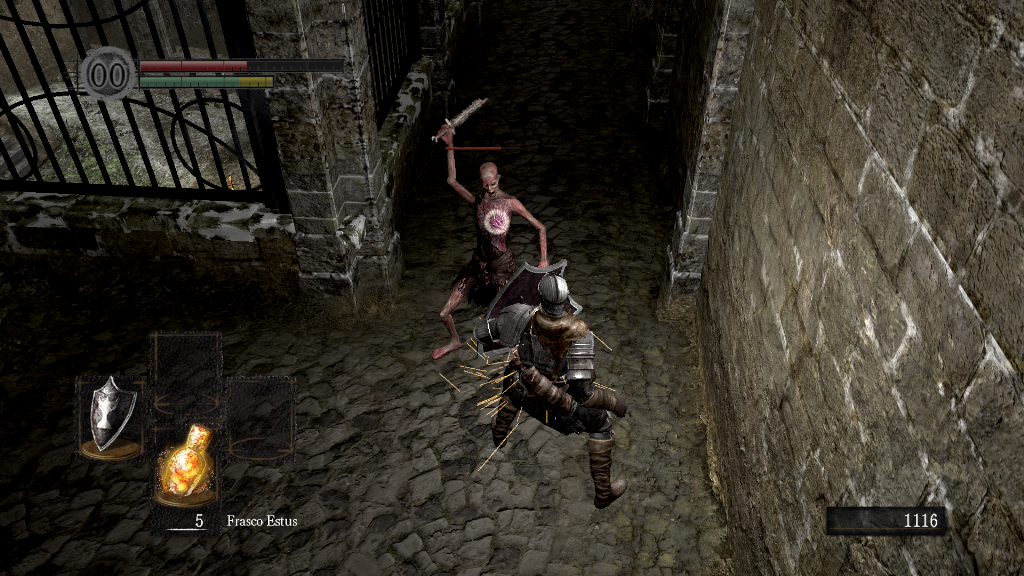health: (138, 58, 343, 71)
hollow: (431, 129, 552, 365)
humanity: (80, 45, 136, 102)
player: (477, 258, 632, 510)
souls: (825, 506, 945, 536)
stamina: (138, 74, 274, 88)
